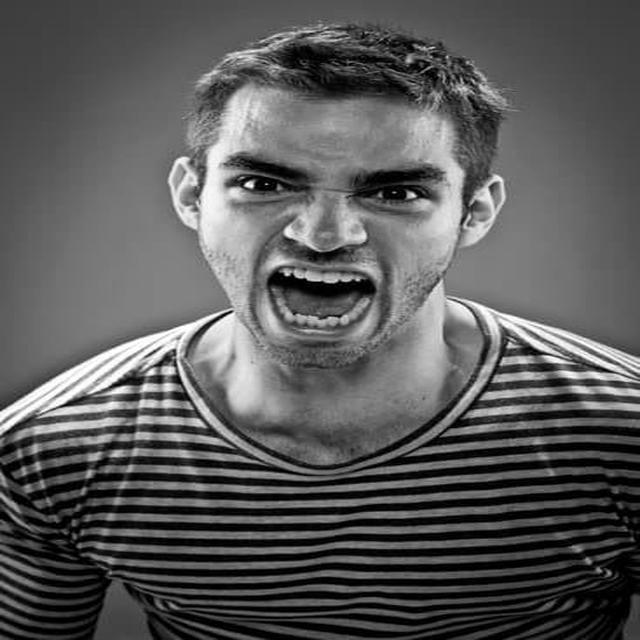Angry: (200, 91, 463, 367)
